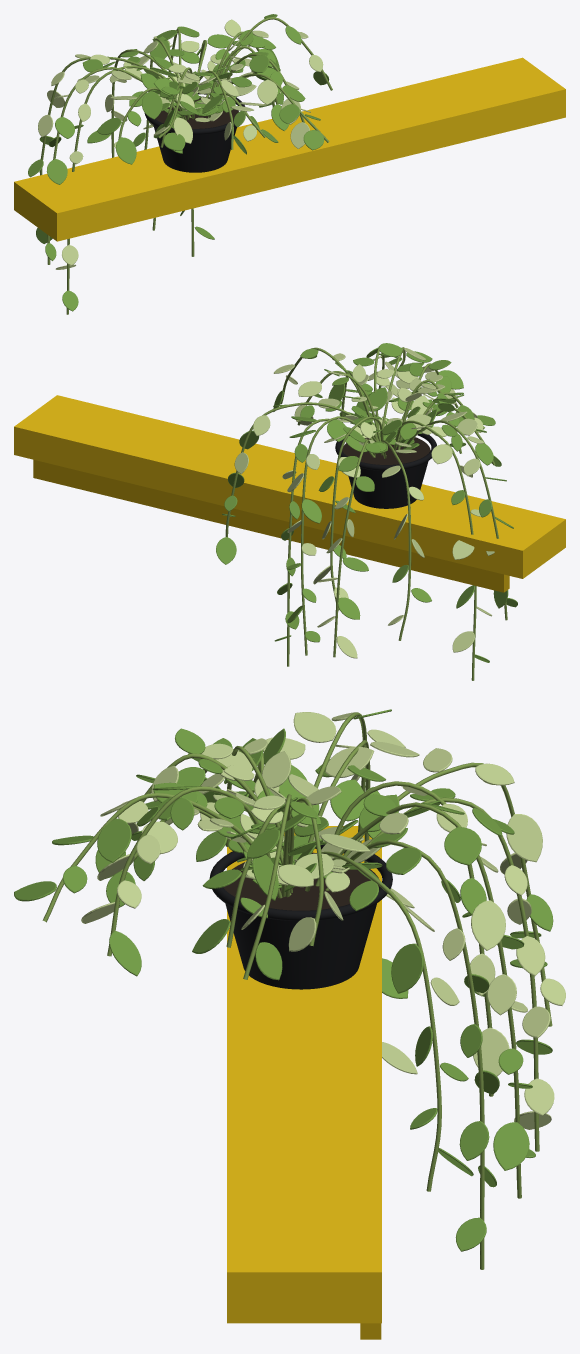
Rendered from wall-shelf-plant.glb.
3 renders of one model, top to bottom at view 1: azimuth 30°, elevation 25°; view 2: azimuth 150°, elevation 25°; view 3: azimuth 270°, elevation 25°, orthographic. The views are drawn at different scales.
Parts seen in each view (by area): view 1: shelf_body, pot_wall, soil, vine_16_stem, vine_15_stem, vine_14_leaf_6, vine_14_leaf_10, vine_17_stem, vine_15_leaf_10, pot_rim, vine_9_leaf_7; view 2: shelf_body, wall_cleat, pot_wall, soil, vine_16_stem, vine_2_stem, vine_17_stem, vine_18_stem, vine_1_stem, pot_rim, vine_3_stem, vine_15_stem (+2 smaller); view 3: shelf_body, pot_wall, soil, pot_rim, vine_3_stem, vine_4_stem, vine_2_stem, vine_2_leaf_13, vine_18_stem, vine_2_leaf_7, vine_17_leaf_7, vine_6_stem (+21 smaller).
Part boxes in pixels (x1,y1,x2,y2): shelf_body: [14, 57, 565, 241]; pot_wall: [153, 125, 236, 172]; soil: [155, 96, 238, 128]; vine_16_stem: [66, 65, 191, 314]; vine_15_stem: [47, 67, 183, 264]; vine_14_leaf_6: [141, 91, 162, 119]; vine_14_leaf_10: [116, 137, 136, 164]; vine_17_stem: [39, 56, 180, 175]; vine_15_leaf_10: [46, 159, 67, 184]; pot_rim: [144, 92, 246, 134]; vine_9_leaf_7: [257, 79, 277, 104]; shelf_body: [14, 395, 565, 578]; wall_cleat: [33, 459, 509, 592]; pot_wall: [348, 461, 428, 508]; soil: [342, 436, 430, 464]; vine_16_stem: [393, 420, 476, 680]; vine_2_stem: [301, 416, 386, 655]; vine_17_stem: [381, 440, 411, 640]; vine_18_stem: [333, 439, 375, 657]; vine_1_stem: [330, 416, 383, 610]; pot_rim: [335, 433, 436, 470]; vine_3_stem: [287, 418, 375, 666]; vine_15_stem: [401, 420, 507, 620]; shelf_body: [227, 826, 381, 1323]; pot_wall: [225, 903, 376, 989]; soil: [223, 852, 379, 910]; pot_rim: [209, 844, 392, 921]; vine_3_stem: [344, 839, 484, 1269]; vine_4_stem: [305, 851, 441, 1191]; vine_2_stem: [323, 802, 521, 1198]; vine_2_leaf_13: [493, 1122, 529, 1170]; vine_18_stem: [325, 797, 539, 1151]; vine_2_leaf_7: [471, 900, 505, 950]; vine_17_leaf_7: [506, 814, 542, 862]; vine_6_stem: [243, 794, 291, 979].
Size of the model in its own units: 1.6 by 0.8202 by 0.8365.
